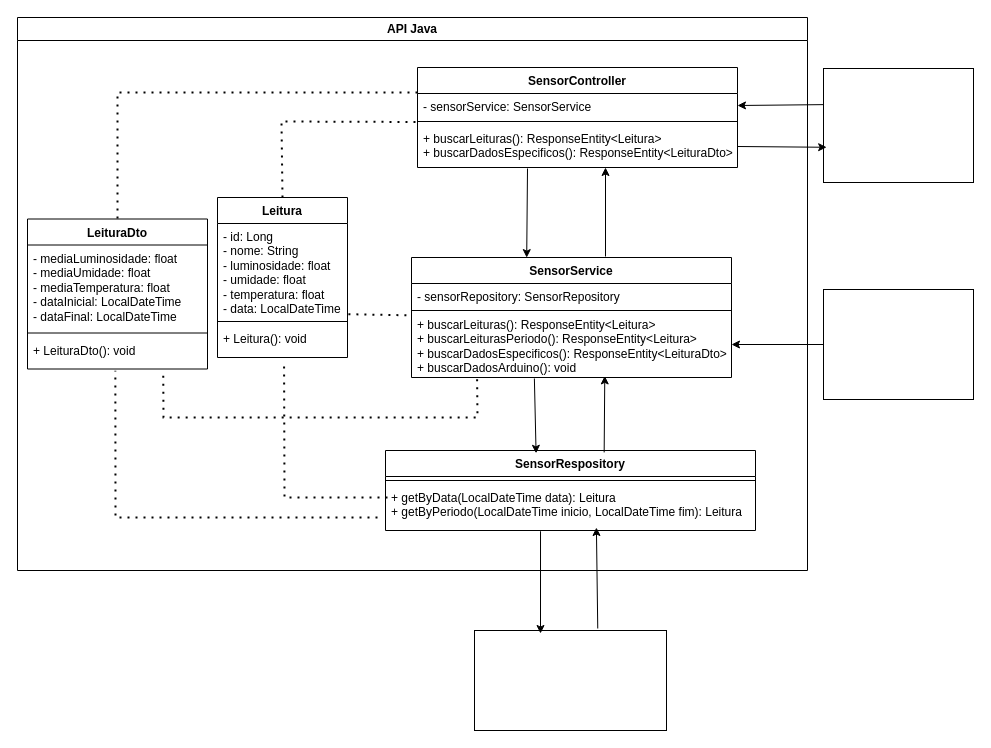
This 991x748 diagram has some shape labels left out. The shapes that lost their labels are listed below. From the top down, each one's centre as x and y in pixels, then its label:
At point (898, 125): "Interface gráfica".
At point (898, 344): "Arduino".
At point (570, 680): "BANCO DE DADOS".
